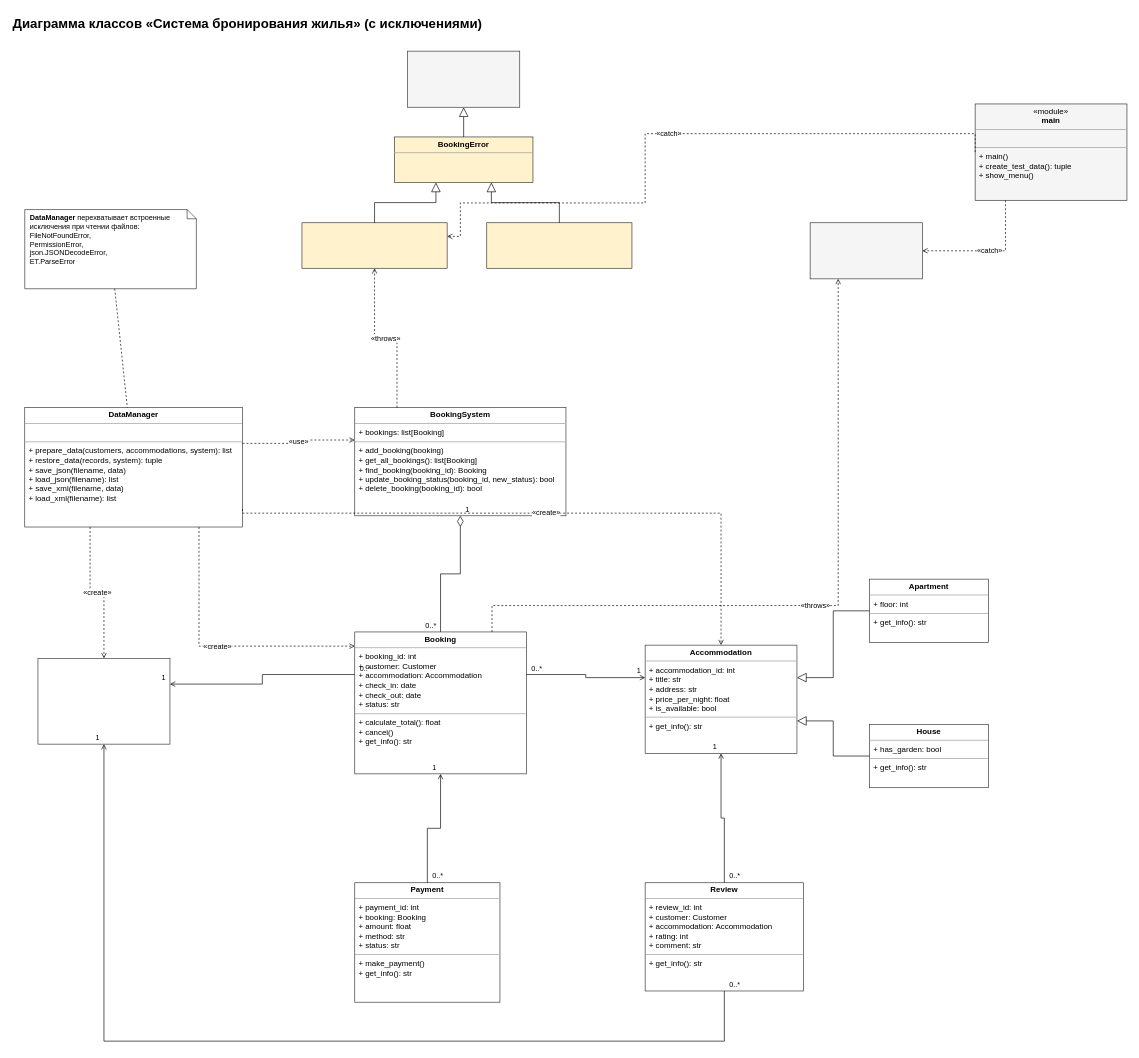
This 1139x1058 diagram has some shape labels left out. Here are the shapes that lost their labels. From the top down, the box of each, then its label:
(407, 50, 520, 107): «builtin» Exception
(301, 222, 447, 268): BookingNotFoundError
(486, 222, 632, 268): InvalidBookingError
(809, 222, 922, 279): «builtin» ValueError
(37, 658, 170, 744): Customer + customer_id: int + name: str + email: str + get_info(): str
